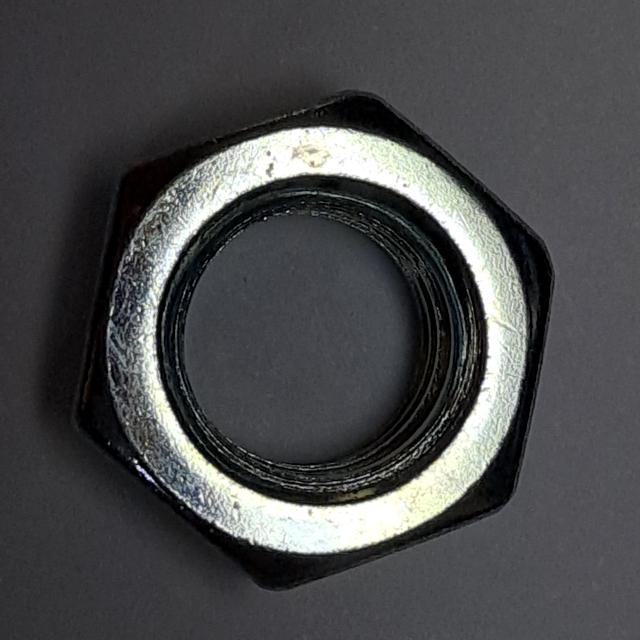Excellent: (53, 79, 569, 603)
